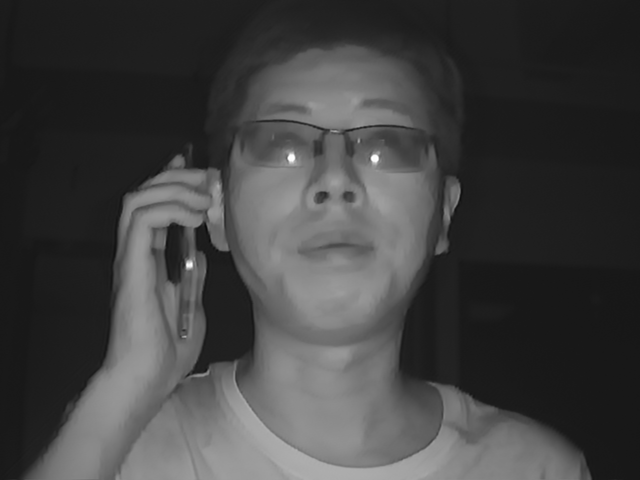hand: (93, 153, 214, 378)
